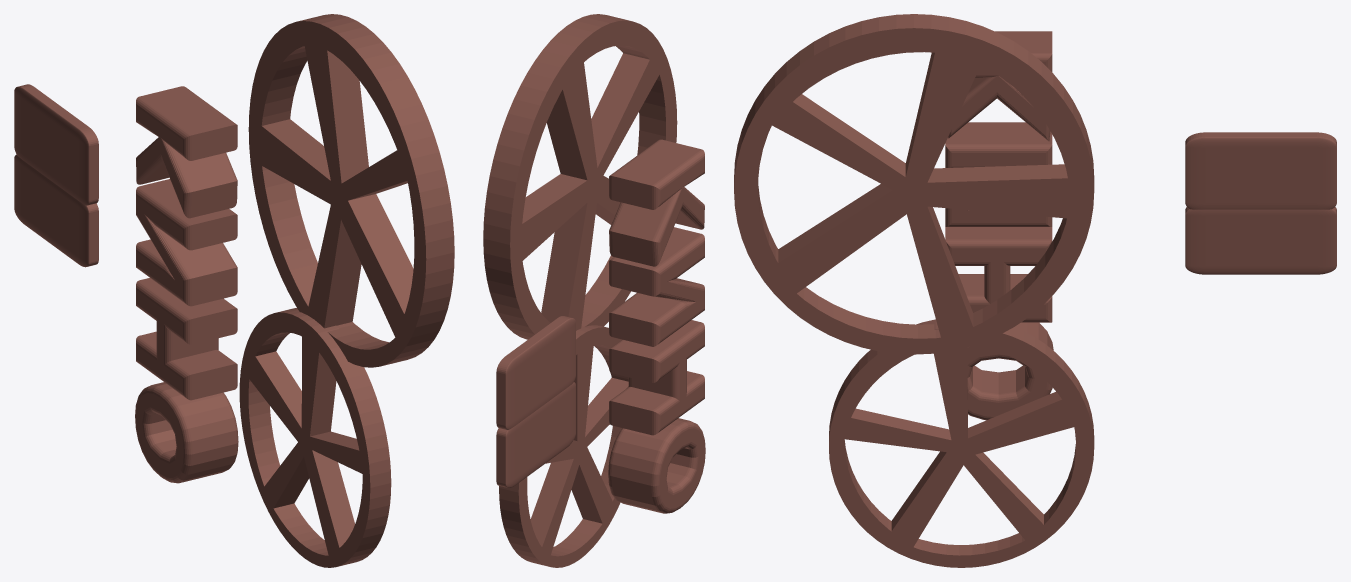
File: tinker.obj
The picture shows the model from 3 angles, left to right: view 1: azimuth 30°, elevation 25°; view 2: azimuth 150°, elevation 25°; view 3: azimuth 270°, elevation 25°; orthographic projection. The views are drawn at different scales.
Visible parts, largest first — view 1: obj_0; view 2: obj_0; view 3: obj_0.
Part boxes in pixels (left/top/right/bottom): obj_0: left=14, top=14, right=454, bottom=567; obj_0: left=483, top=14, right=705, bottom=567; obj_0: left=734, top=14, right=1336, bottom=567.
Bounding box in the file's own units: 25.4 × 79.75 × 79.5.
